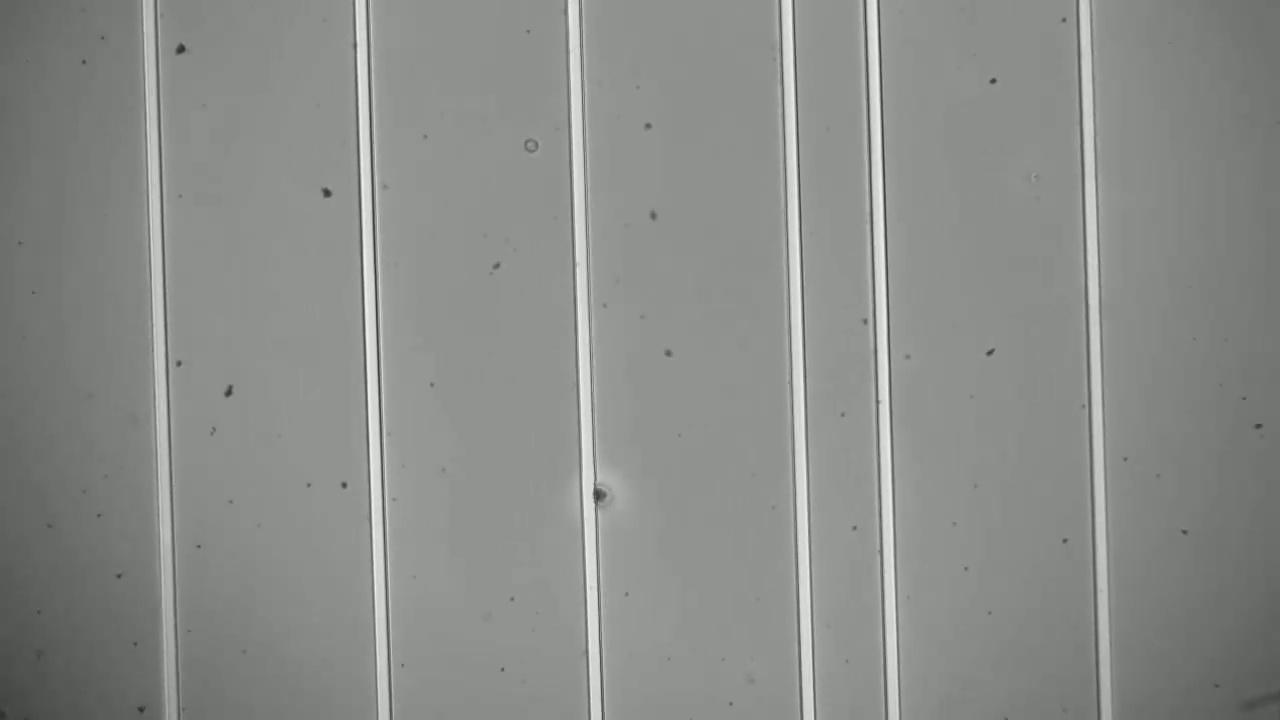stains_enbedded: (573, 477, 618, 515)
